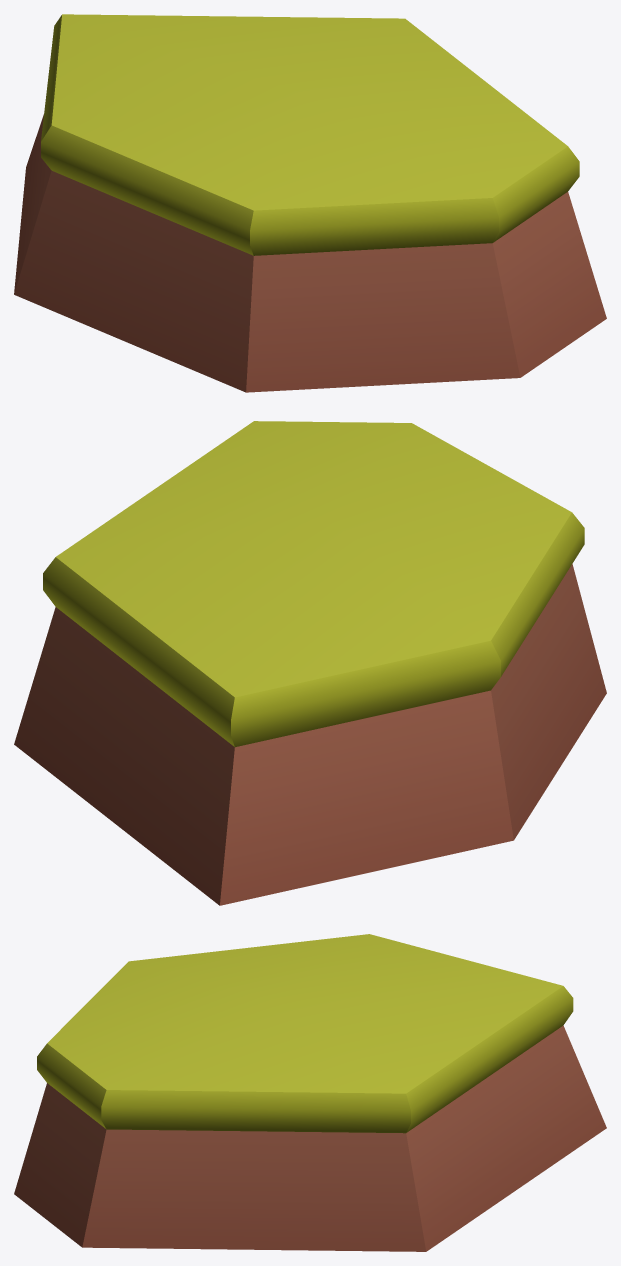
The model's file is hill_single_B.glb.
3 views of the same model, one above another, from view 1: azimuth 30°, elevation 25°; view 2: azimuth 150°, elevation 25°; view 3: azimuth 270°, elevation 25° (orthographic). The views are drawn at different scales.
Parts seen in each view (by area): view 1: hill_single_B; view 2: hill_single_B; view 3: hill_single_B.
Boxes of the visible parts, x1,y1,x2,y2 form: hill_single_B: [14, 14, 606, 392]; hill_single_B: [14, 421, 606, 905]; hill_single_B: [14, 934, 606, 1251].
Bounding box in the file's own units: 0.995 × 0.4187 × 1.36.
1 material, 1 textured.
